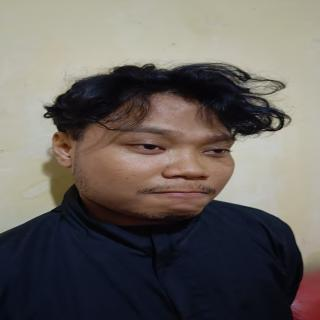Sedih: (77, 82, 248, 224)
